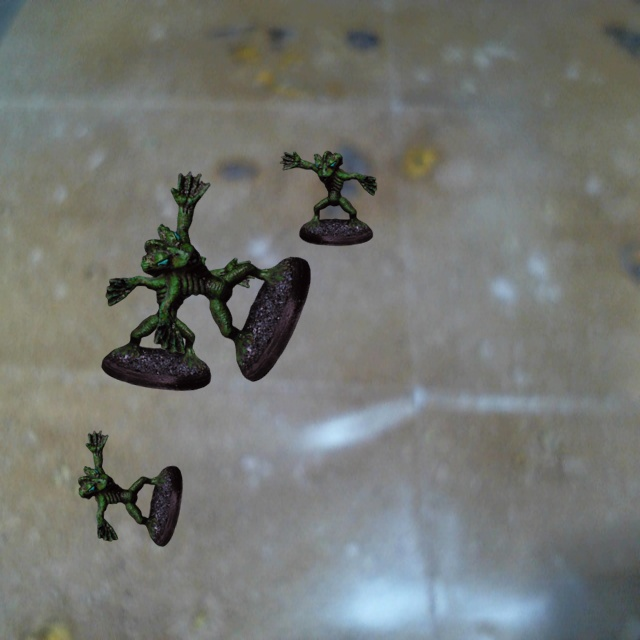pieza_juego: (141, 171, 310, 381), (101, 249, 254, 390), (78, 430, 182, 546), (280, 151, 376, 245)
